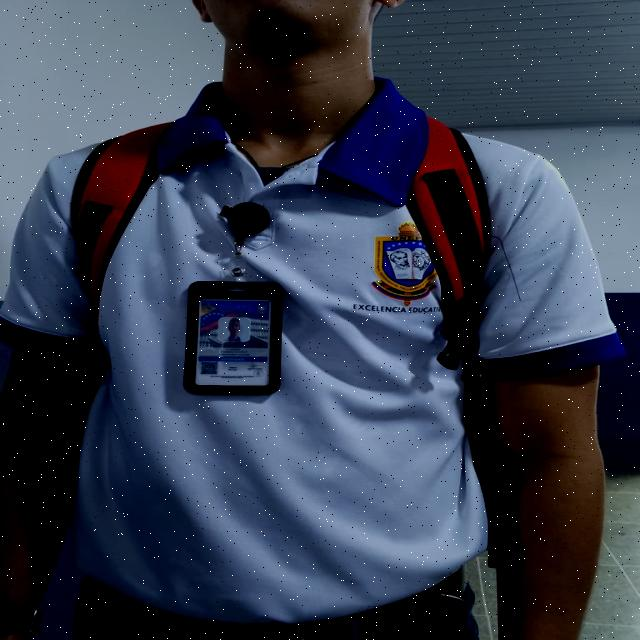carnet: (195, 299, 271, 386)
uniforme_superior: (0, 77, 627, 624)
